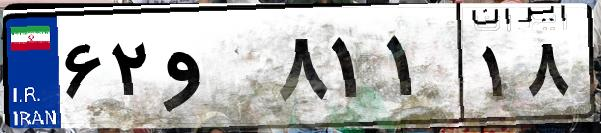1: (385, 28, 445, 110), (330, 28, 385, 110), (475, 38, 525, 113)
2: (110, 28, 158, 98)
6: (57, 26, 110, 100)
8: (270, 28, 330, 110), (525, 38, 570, 115)
و: (158, 20, 270, 120)
